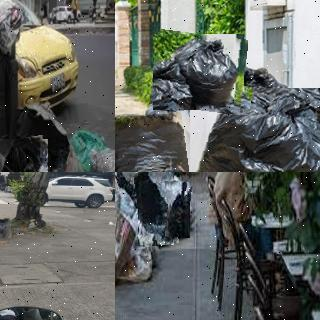Garbage: (186, 84, 320, 172), (151, 32, 246, 113), (115, 113, 200, 172), (135, 172, 176, 246), (0, 137, 50, 172), (69, 125, 106, 172), (167, 182, 191, 238), (0, 219, 11, 238)
